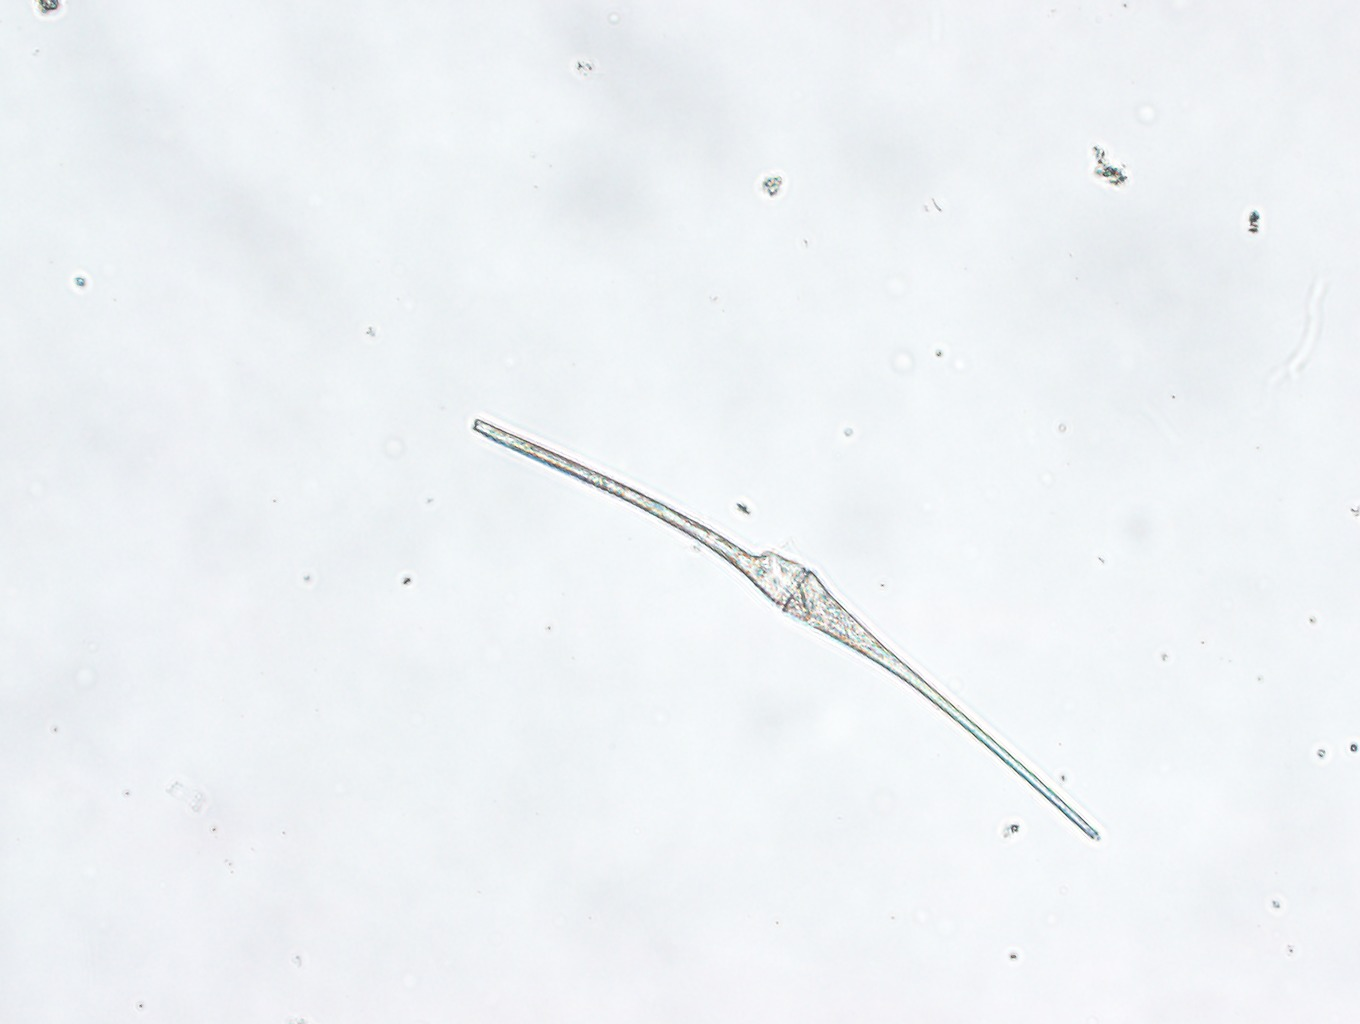ceratium fusus: (467, 414, 1104, 847)
